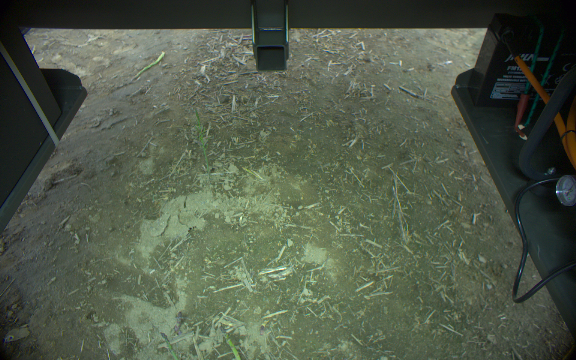aspa: (217, 326, 241, 360), (158, 330, 179, 360)
